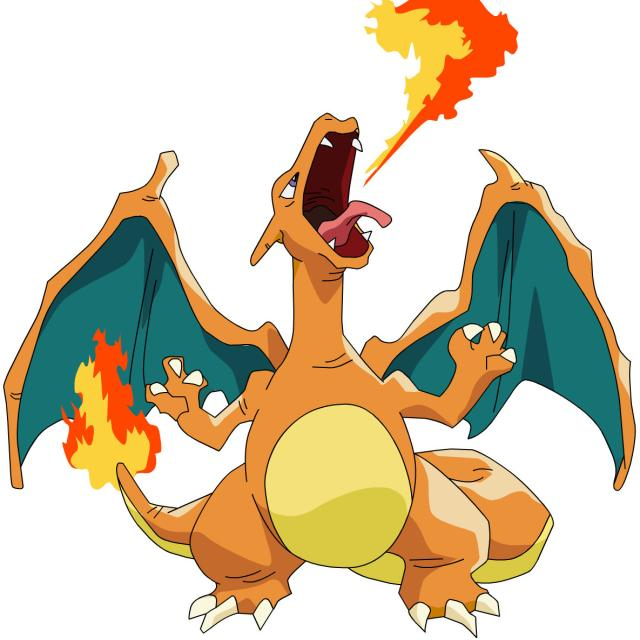Charizard: (120, 109, 542, 624)
